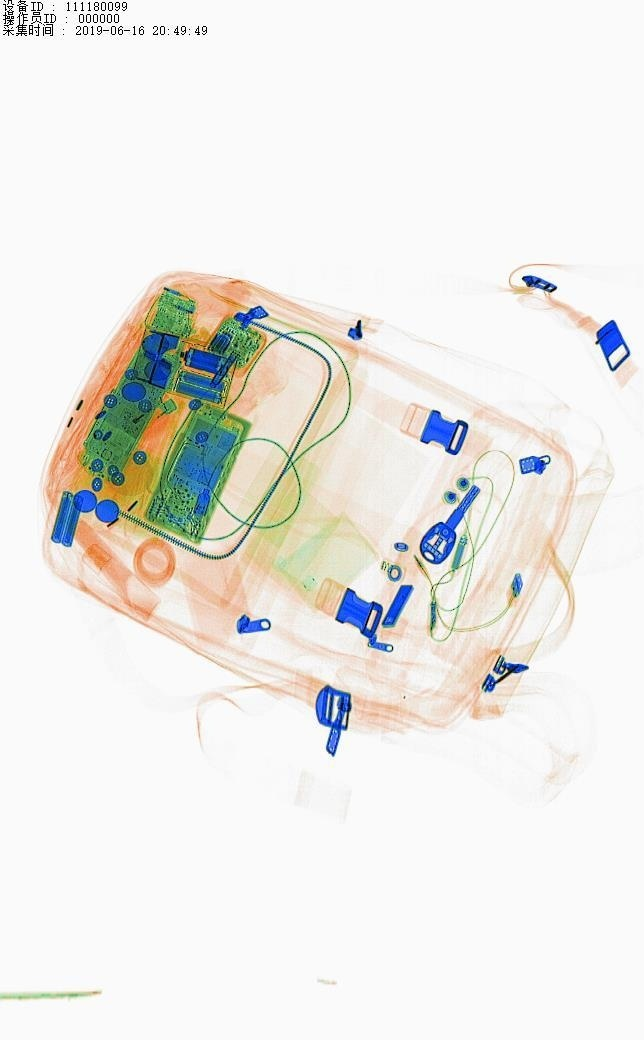NonmetallicFire: (92, 391, 199, 449)
